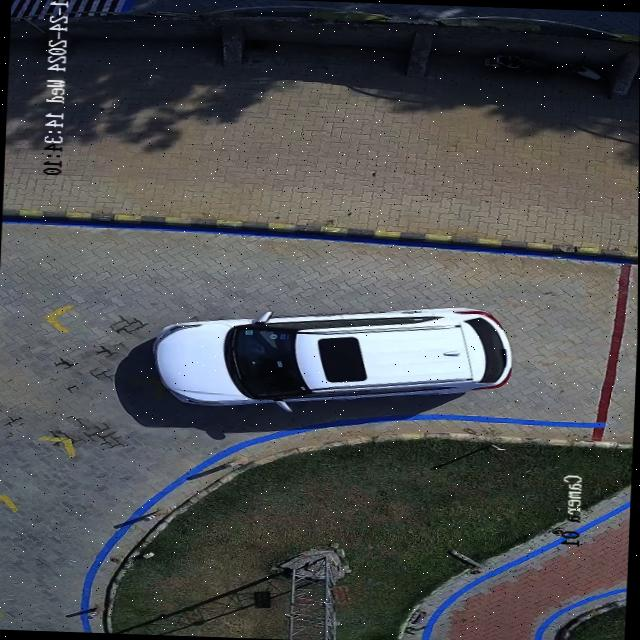car: (153, 306, 511, 409)
